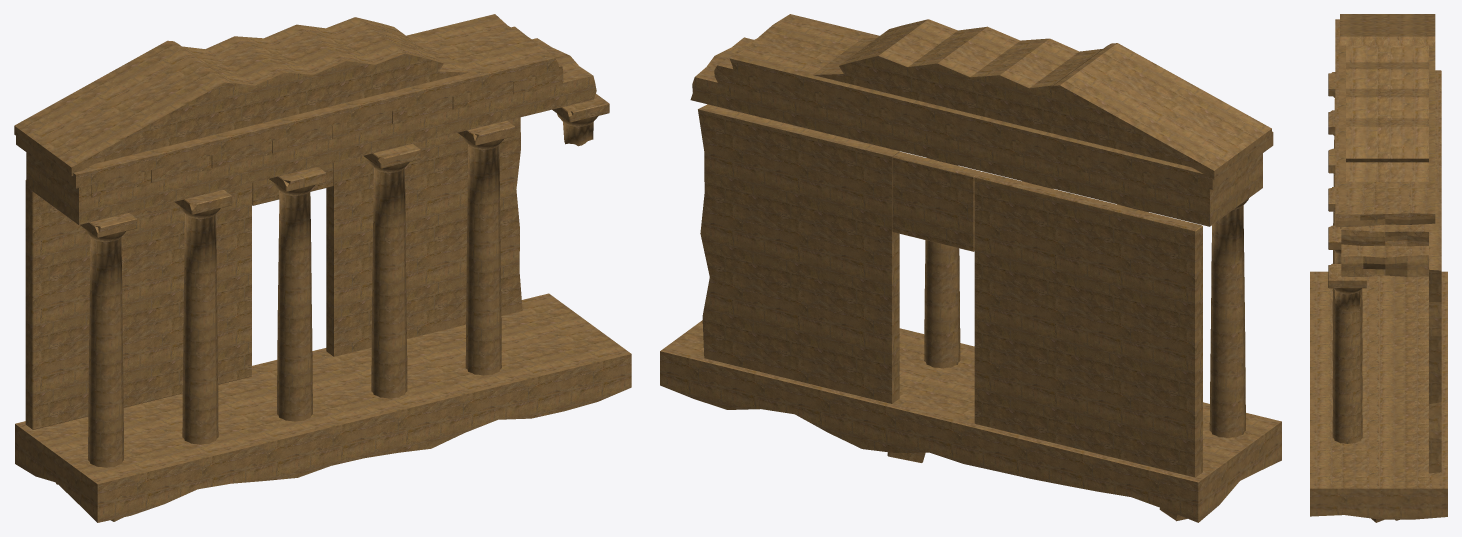
Rendered from temple_portico.glb.
3 renders of one model, left to right at view 1: azimuth 30°, elevation 25°; view 2: azimuth 150°, elevation 25°; view 3: azimuth 270°, elevation 25°, orthographic. The views are drawn at different scales.
Visible parts, largest first — view 1: temple_portico; view 2: temple_portico; view 3: temple_portico.
Part boxes in pixels (box(x1,y1,x2,y2)): temple_portico: box(14, 14, 631, 522); temple_portico: box(660, 14, 1281, 522); temple_portico: box(1310, 14, 1447, 522).
Bounding box in the file's own units: 16.65 × 12.41 × 4.4.
1 material, 1 textured.
